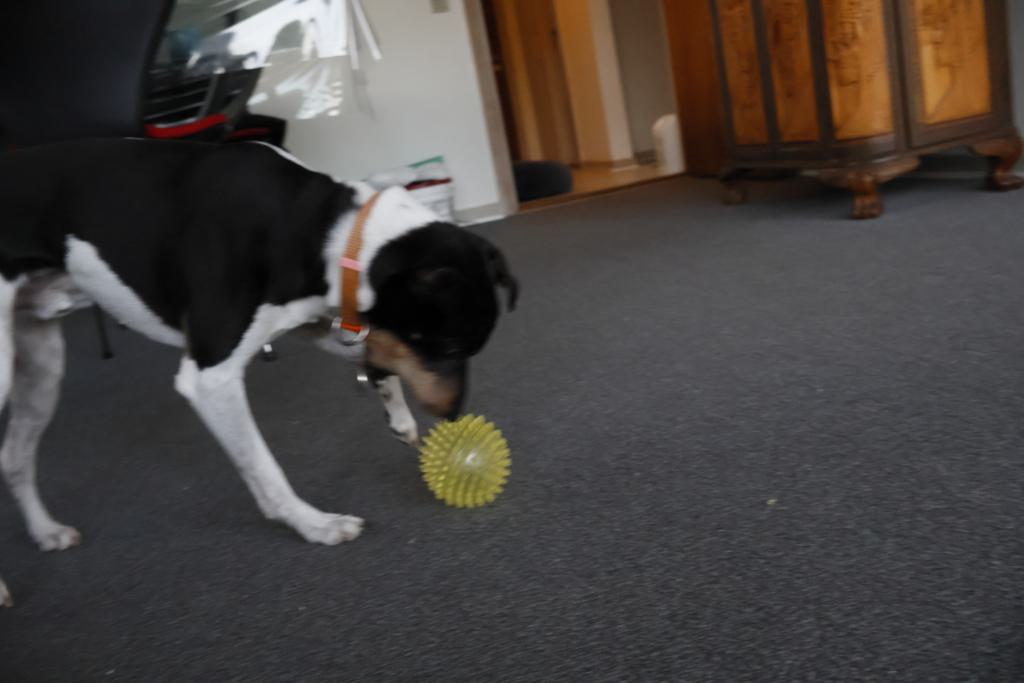Dog: (0, 134, 530, 620)
